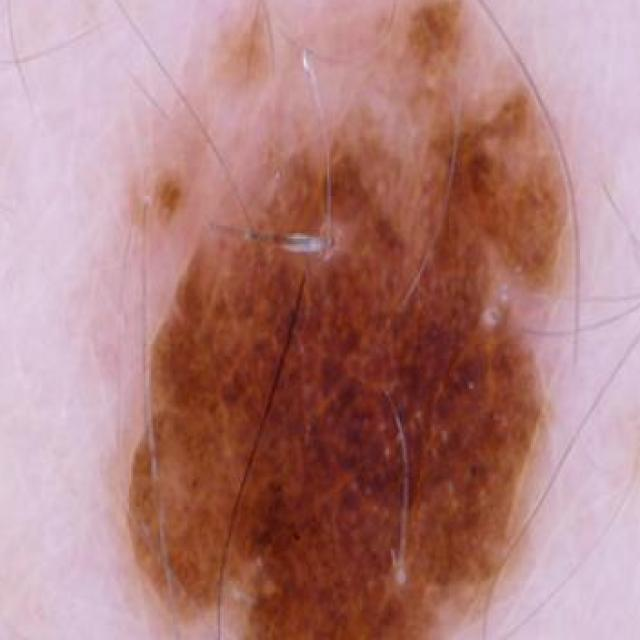NV: (113, 0, 569, 640)
